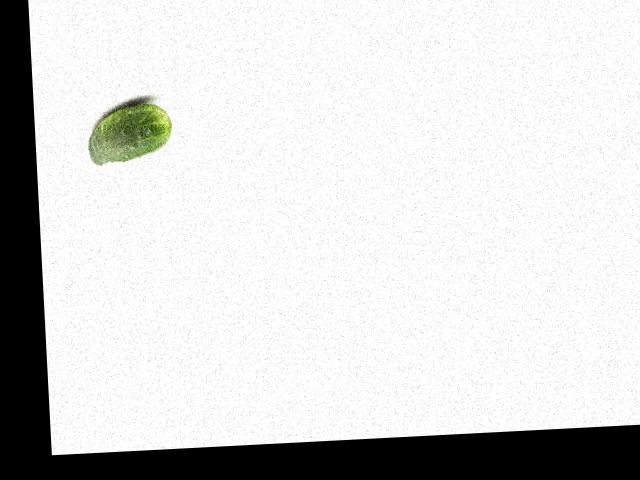cucumber: (86, 101, 174, 165)
